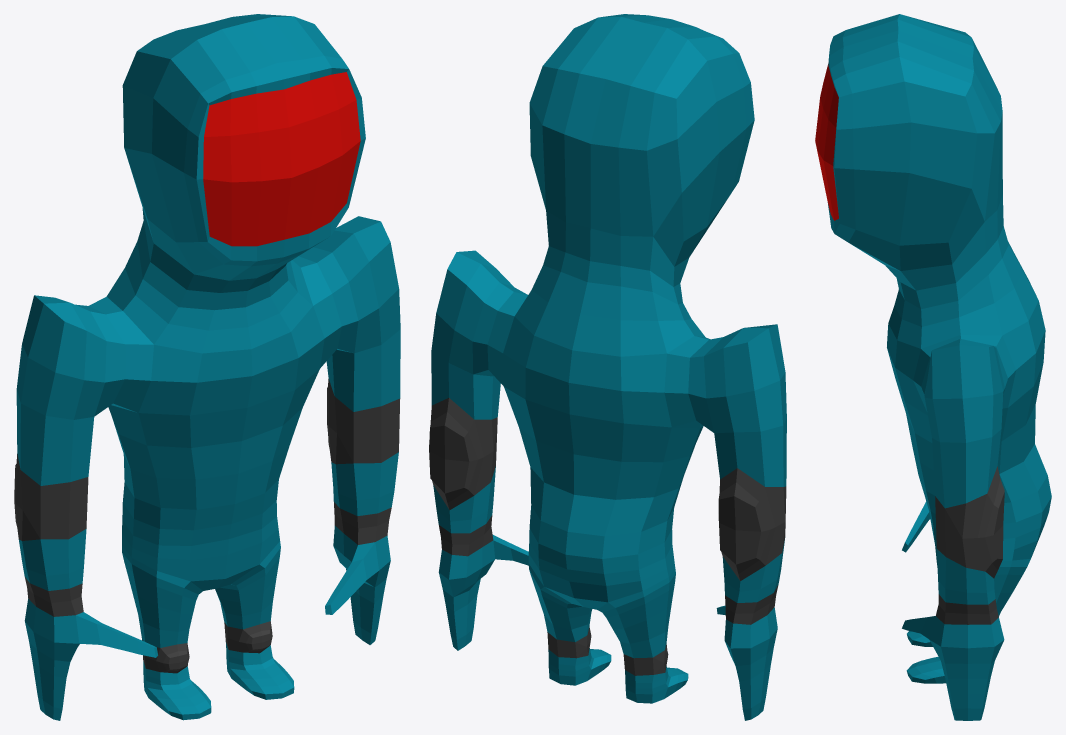
File: NovoAlien.fbx
3 renders of one model, left to right at view 1: azimuth 30°, elevation 25°; view 2: azimuth 150°, elevation 25°; view 3: azimuth 270°, elevation 25°, orthographic. The views are drawn at different scales.
Visible parts, largest first — view 1: AlienNovo; view 2: AlienNovo; view 3: AlienNovo.
Boxes of the visible parts, x1,y1,x2,y2 form: AlienNovo: (14, 14, 400, 720); AlienNovo: (429, 14, 786, 720); AlienNovo: (815, 14, 1051, 720).
Size of the model in its own units: 191 by 335 by 114.
